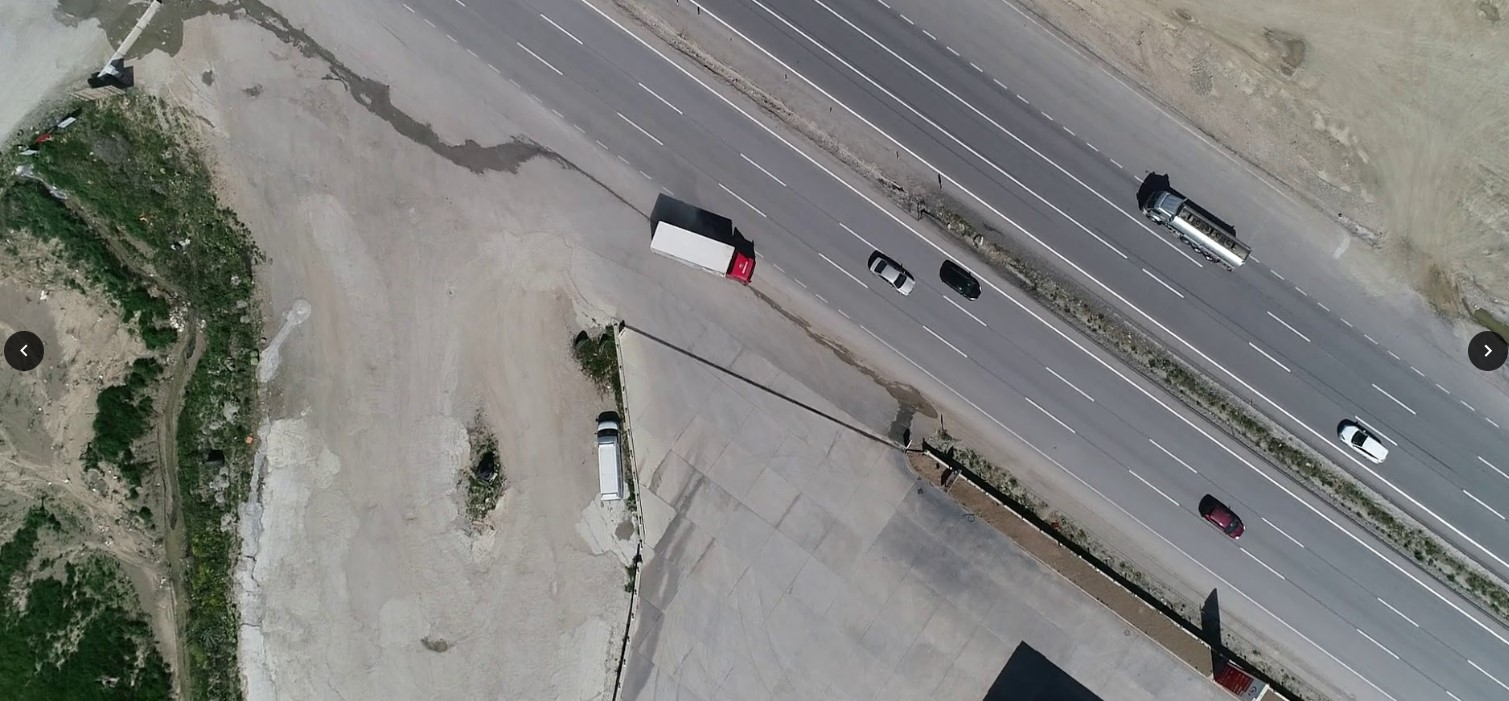araba: (593, 417, 627, 505), (1340, 417, 1390, 465), (935, 256, 982, 299), (868, 252, 911, 298), (1199, 493, 1244, 534)
kamyon: (1152, 184, 1253, 268), (650, 217, 763, 286)
